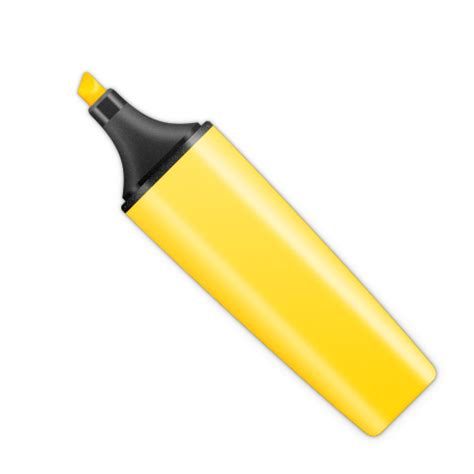???: (76, 71, 437, 438)
